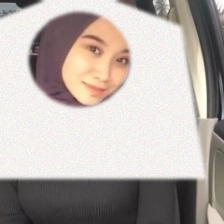Mukena: (0, 0, 191, 178)
